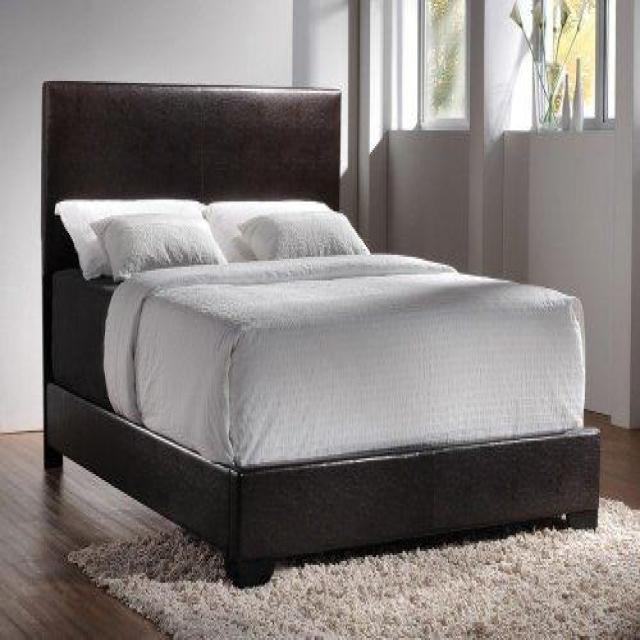bed: (40, 77, 600, 589)
